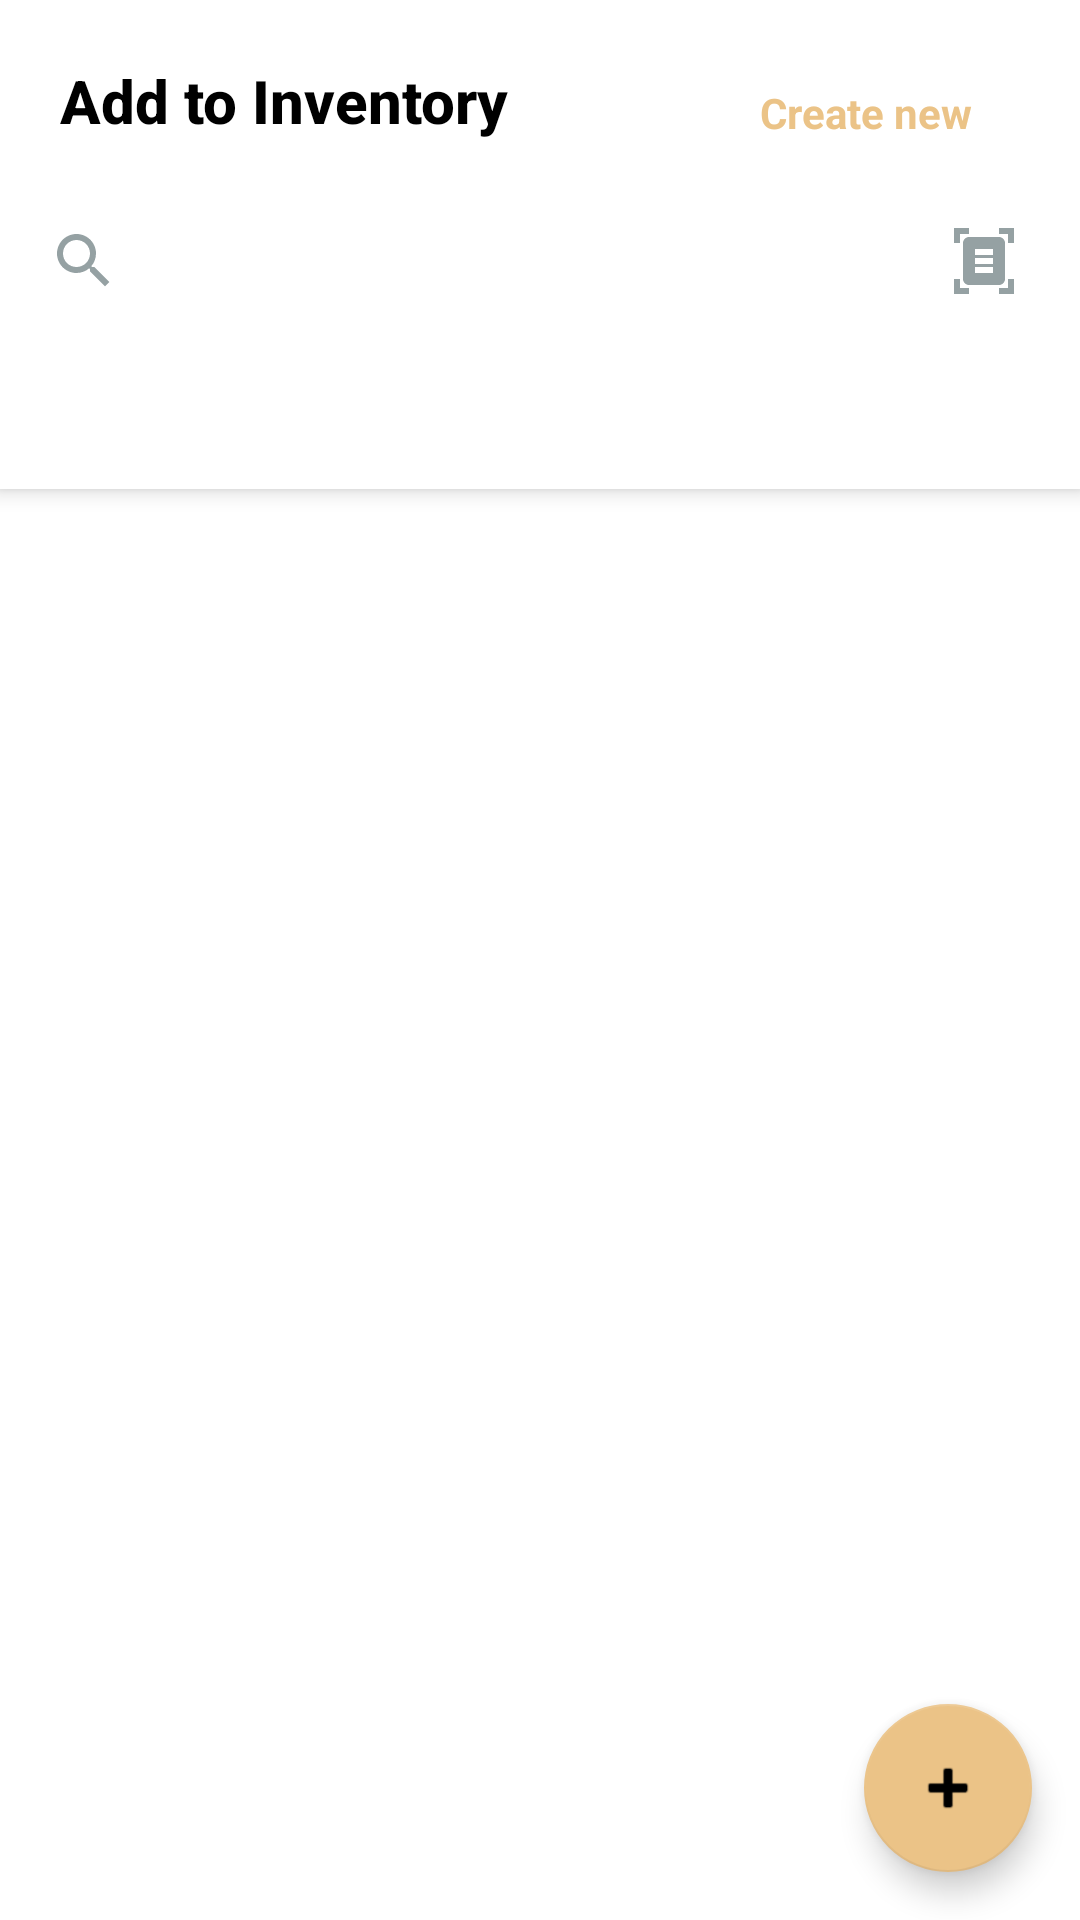

Where icons sit on this 1080w x 1920h app screen, as box=[x1, y1, x2, y2]:
add: box=[864, 1704, 1032, 1872]
document scanner: box=[954, 228, 1014, 294]
